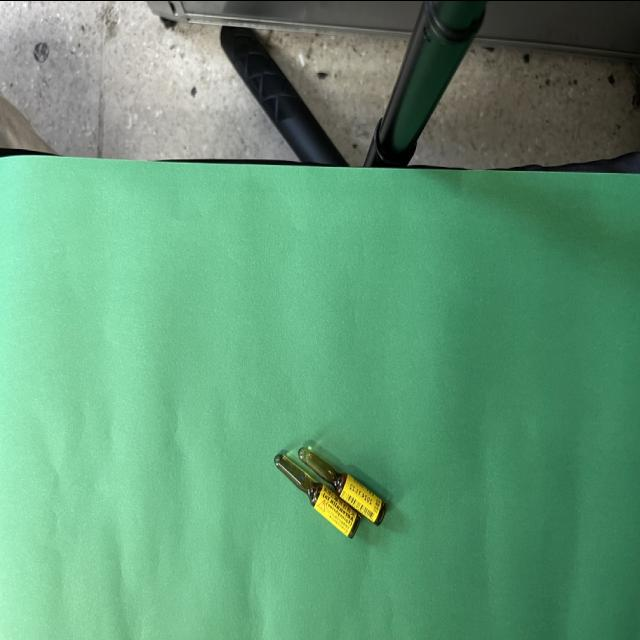Ampoules: (274, 453, 360, 537), (298, 447, 386, 525)
